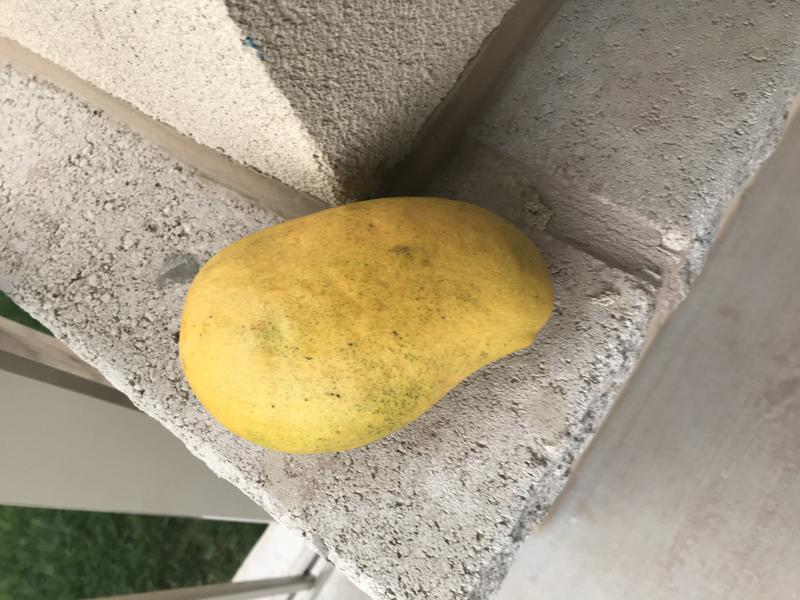mango: (171, 188, 570, 463)
